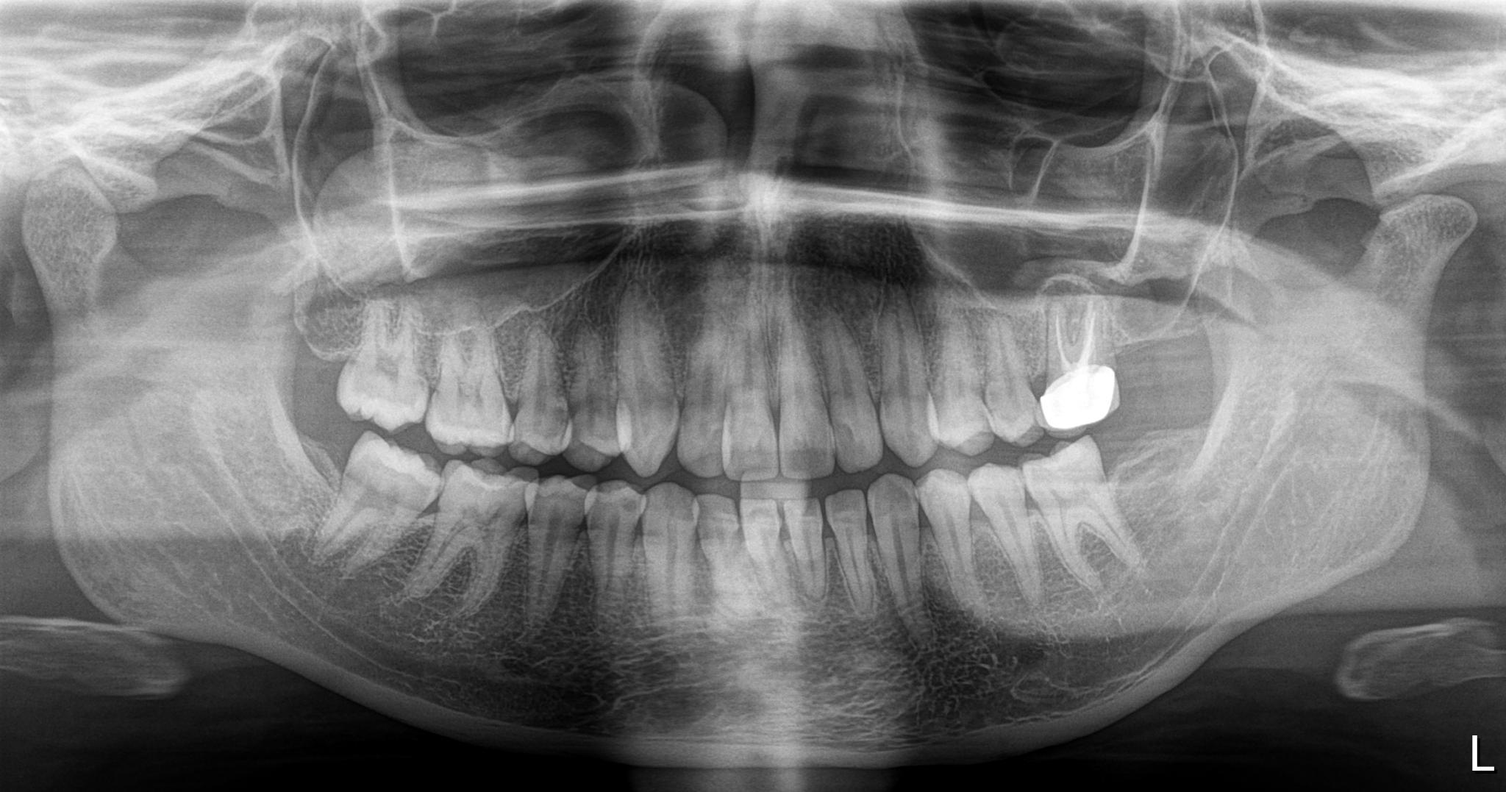Dental Caries: (592, 491, 649, 536)
Endodontically Treated Tooth: (1044, 300, 1124, 420)
Missing Tooth: (290, 318, 349, 479), (1112, 436, 1180, 566), (1127, 303, 1205, 411)
